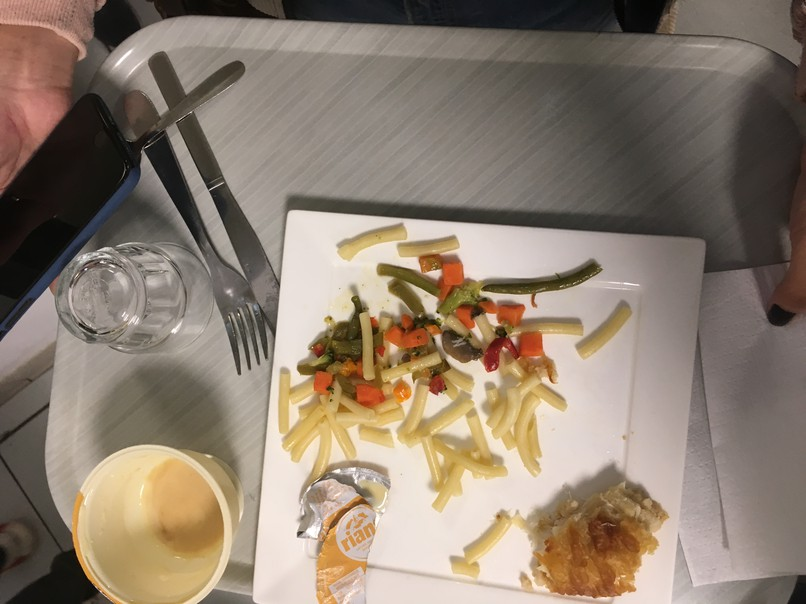cup: (54, 248, 198, 363)
cutlery: (114, 44, 299, 362)
orga: (390, 262, 583, 355), (555, 486, 664, 596), (412, 385, 552, 461), (284, 380, 409, 455), (318, 295, 396, 392)
trash: (691, 262, 806, 584), (79, 442, 244, 604), (304, 466, 382, 604)
